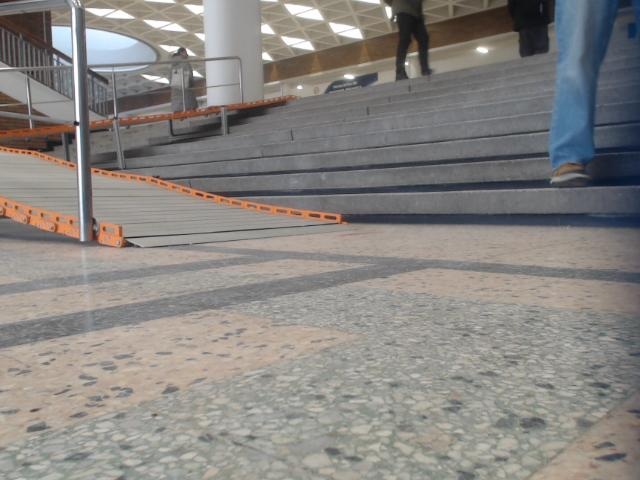rampUp: (93, 169, 340, 247), (0, 151, 78, 236)
ramps-railing: (1, 54, 242, 125), (64, 0, 92, 241), (0, 111, 74, 124), (0, 2, 28, 13)
